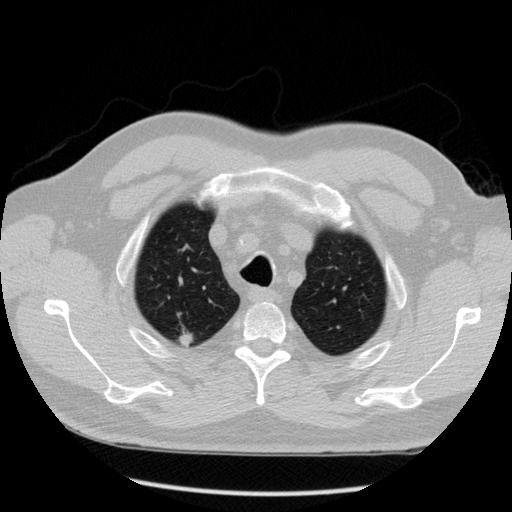nodule: (176, 329, 194, 347)
